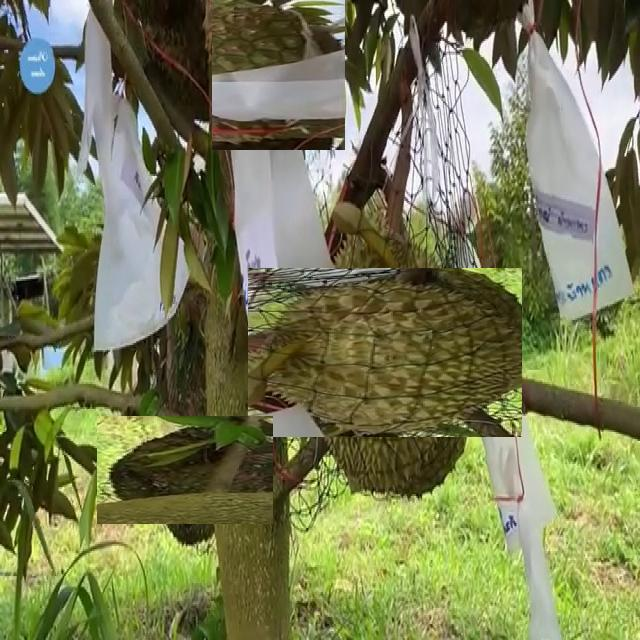durian: (274, 242, 496, 464), (205, 0, 354, 142), (113, 399, 256, 541)
